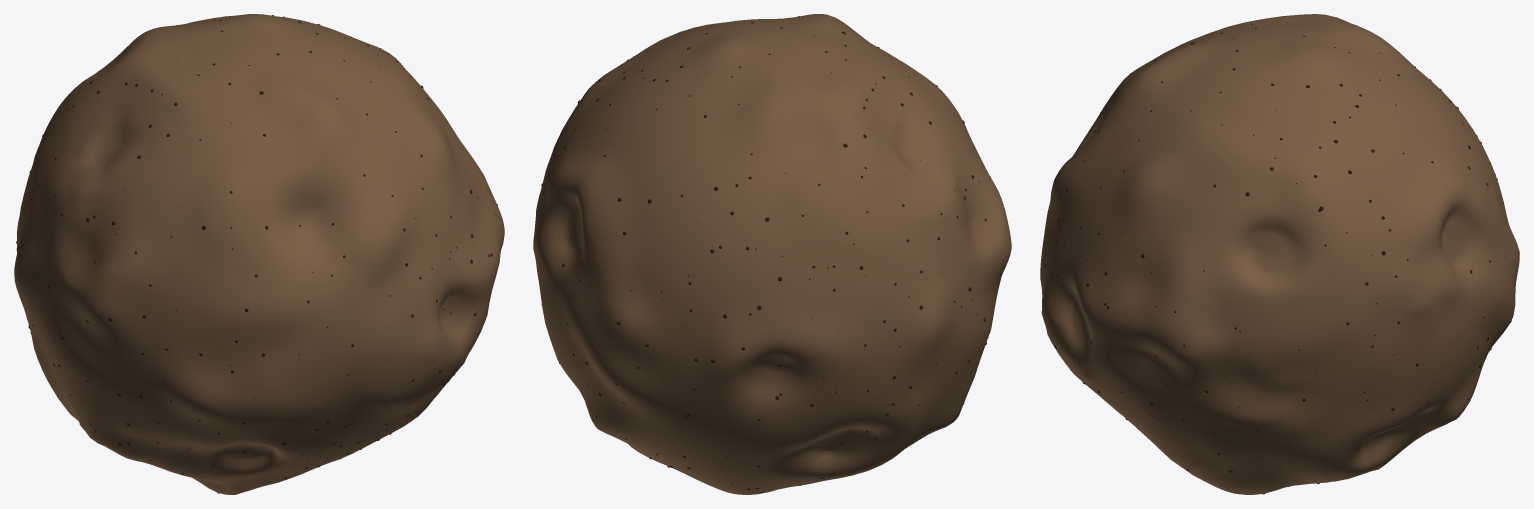
File: chocolatechipmoon.fbx
The picture shows the model from 3 angles, left to right: view 1: azimuth 30°, elevation 25°; view 2: azimuth 150°, elevation 25°; view 3: azimuth 270°, elevation 25°; orthographic projection.
Parts seen in each view (by area): view 1: GeoSphere001; view 2: GeoSphere001; view 3: GeoSphere001.
Part boxes in pixels (x1=…): GeoSphere001: x1=14, y1=14, x2=504, y2=494; GeoSphere001: x1=533, y1=14, x2=1011, y2=494; GeoSphere001: x1=1040, y1=14, x2=1519, y2=494.
Bounding box in the file's own units: 7904 × 8027 × 8151.
